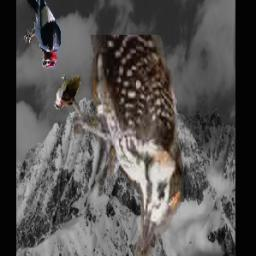Cuckoo: (53, 75, 81, 133)
Woodpecker: (74, 36, 182, 256), (22, 0, 63, 73)
